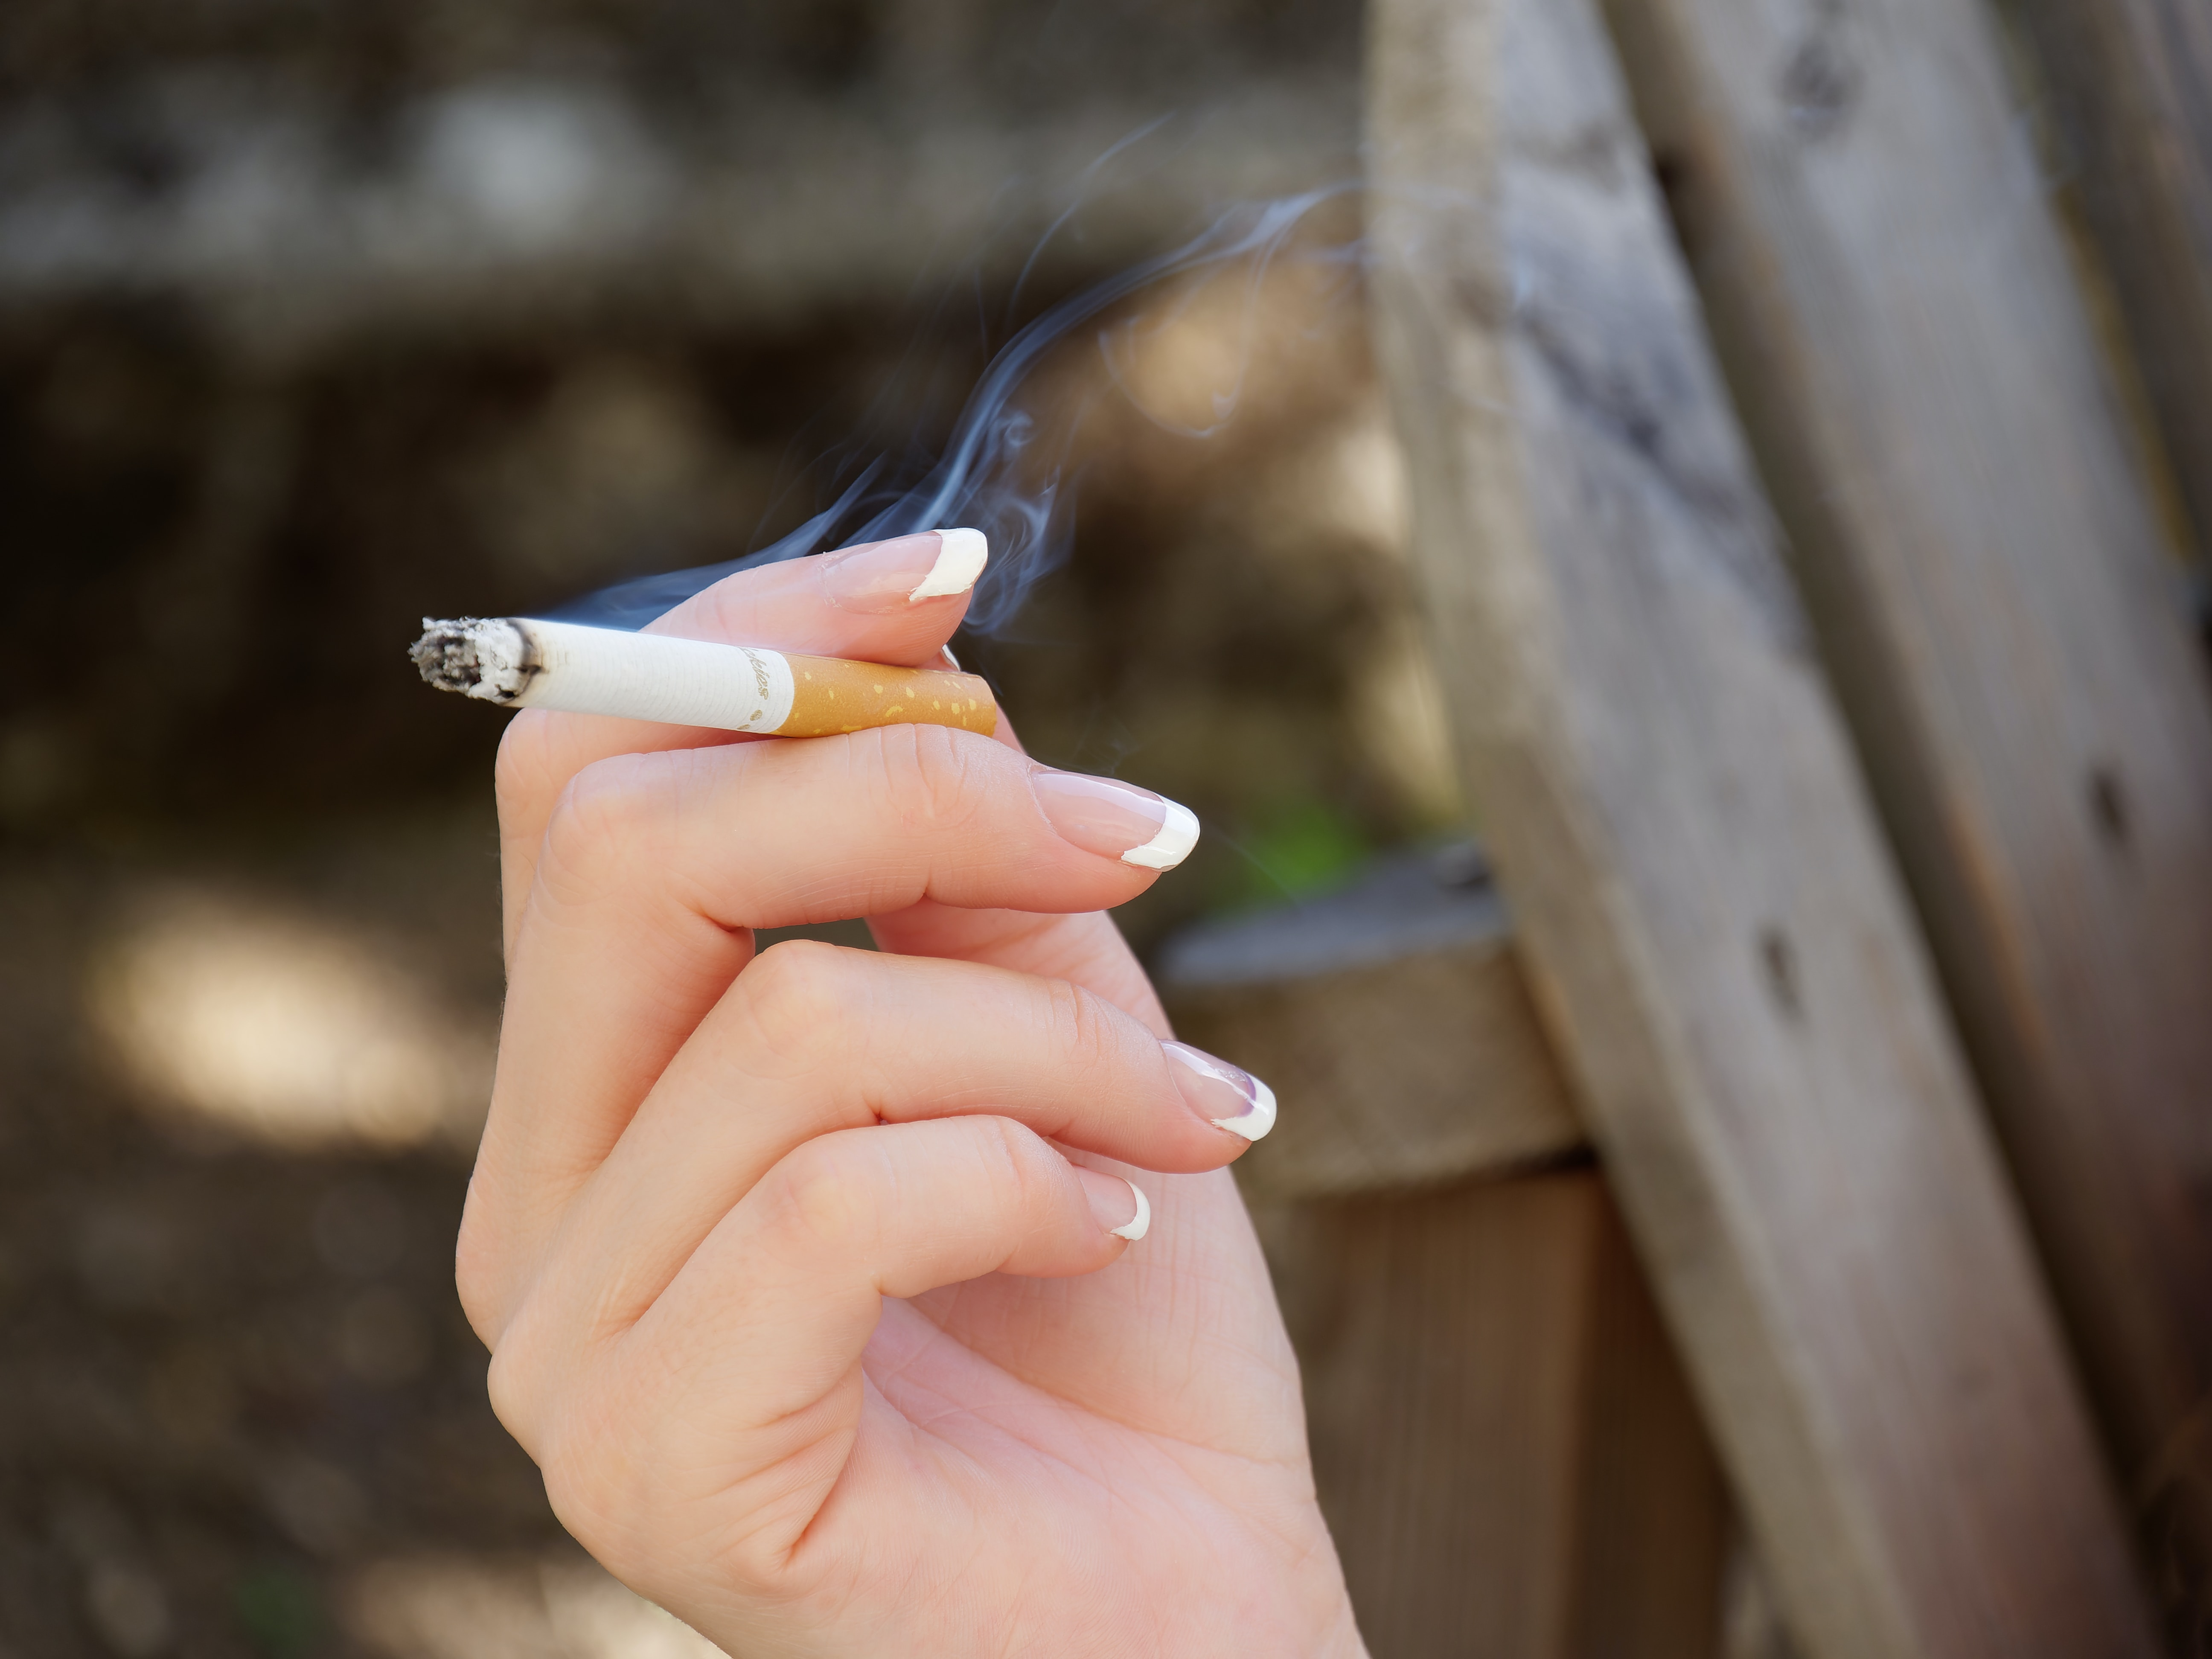cigarette: (402, 596, 1010, 751)
